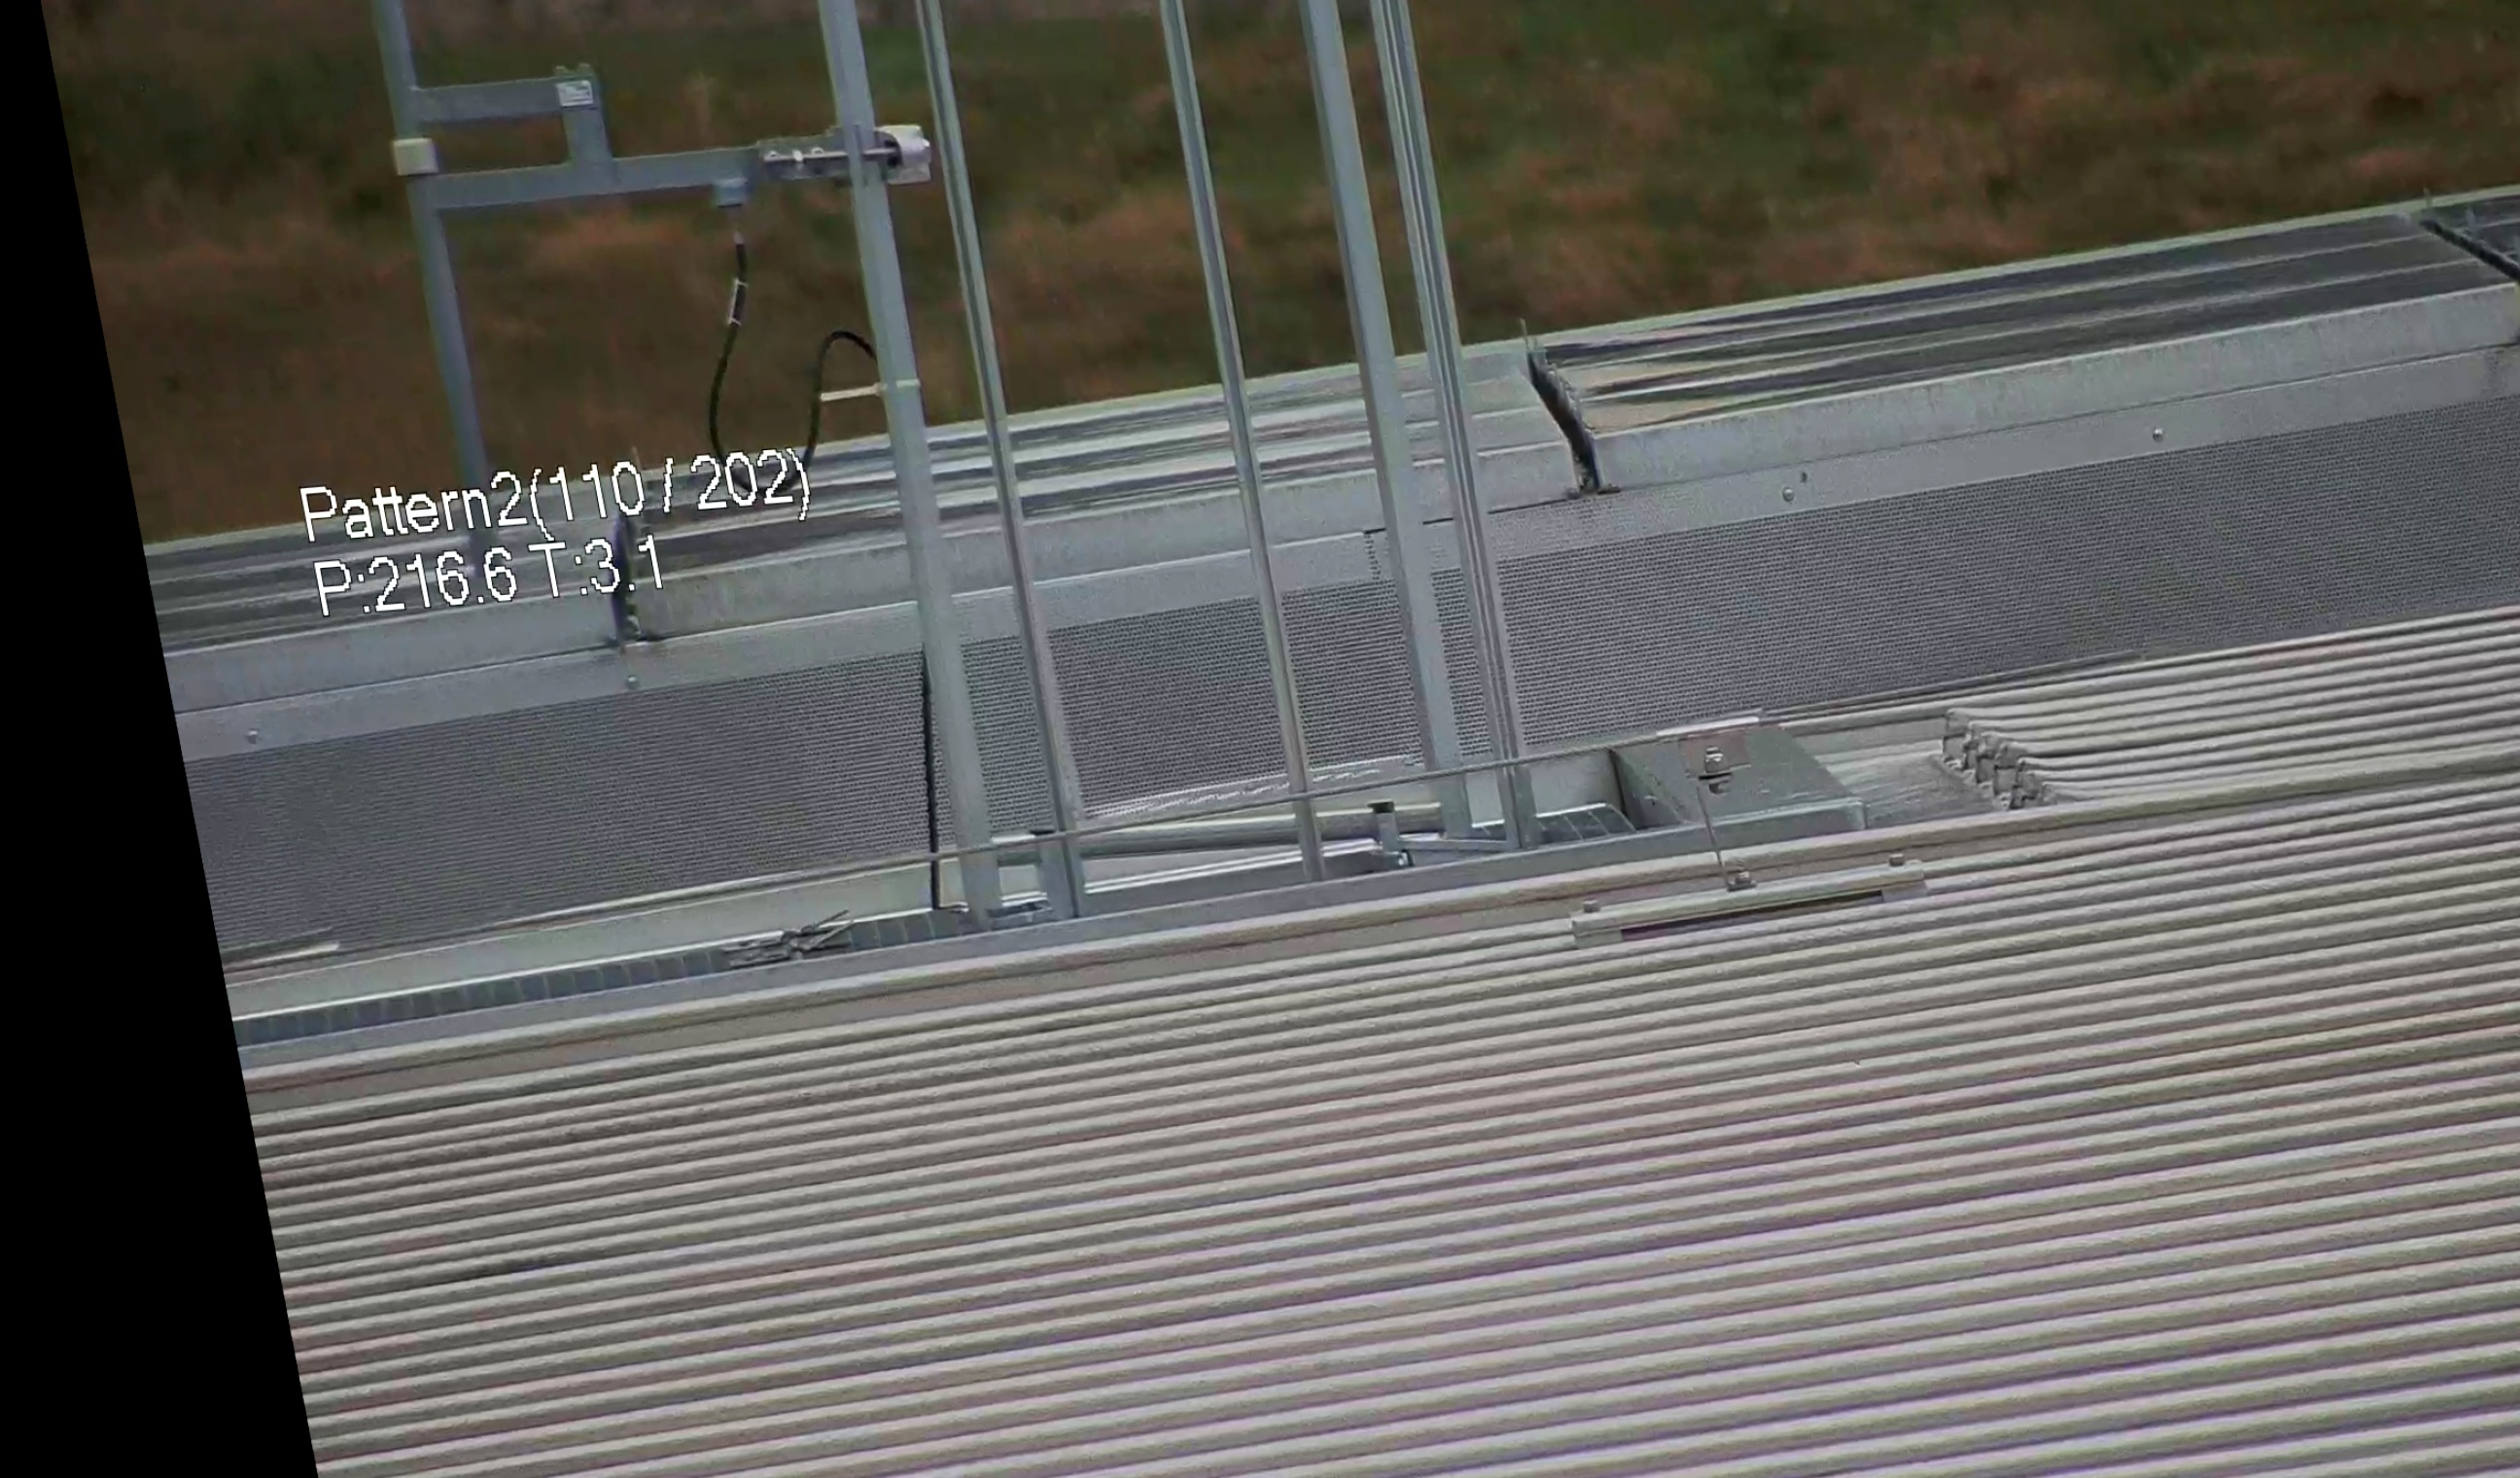Other: (1507, 318, 1625, 509)
